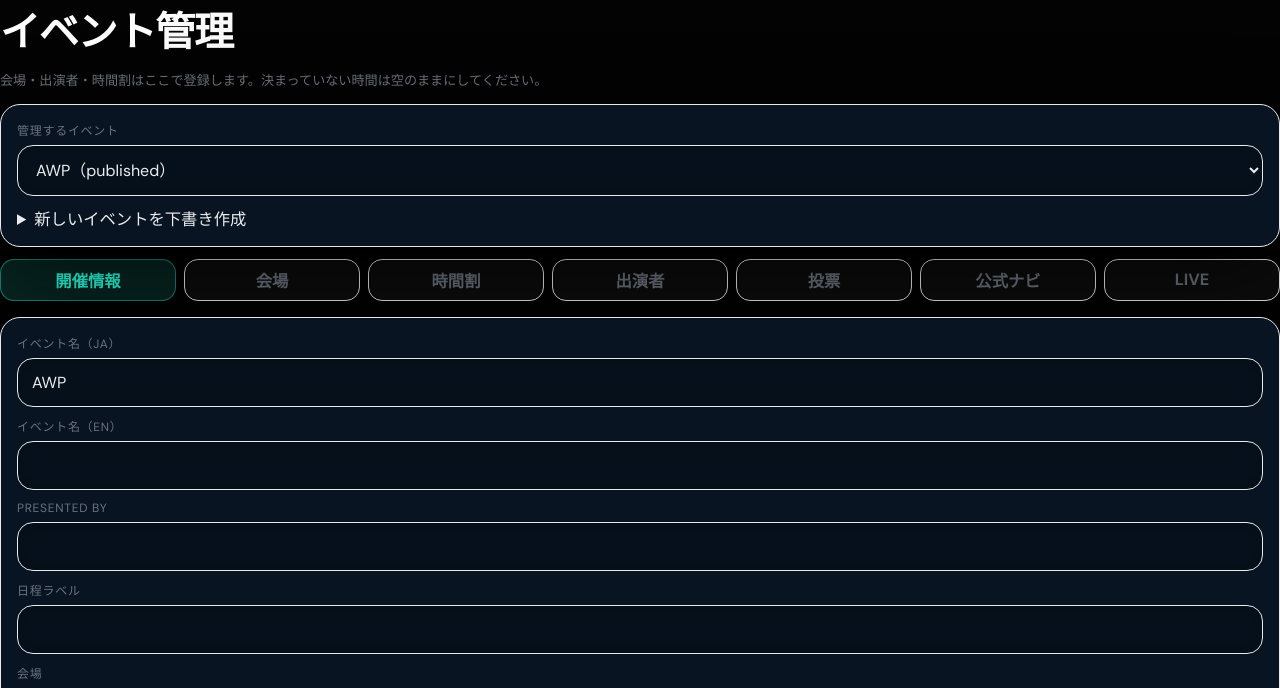
does not report a successful STOP when persistence fails
Click the button "投票" at (824, 280), box [736,259,912,301]
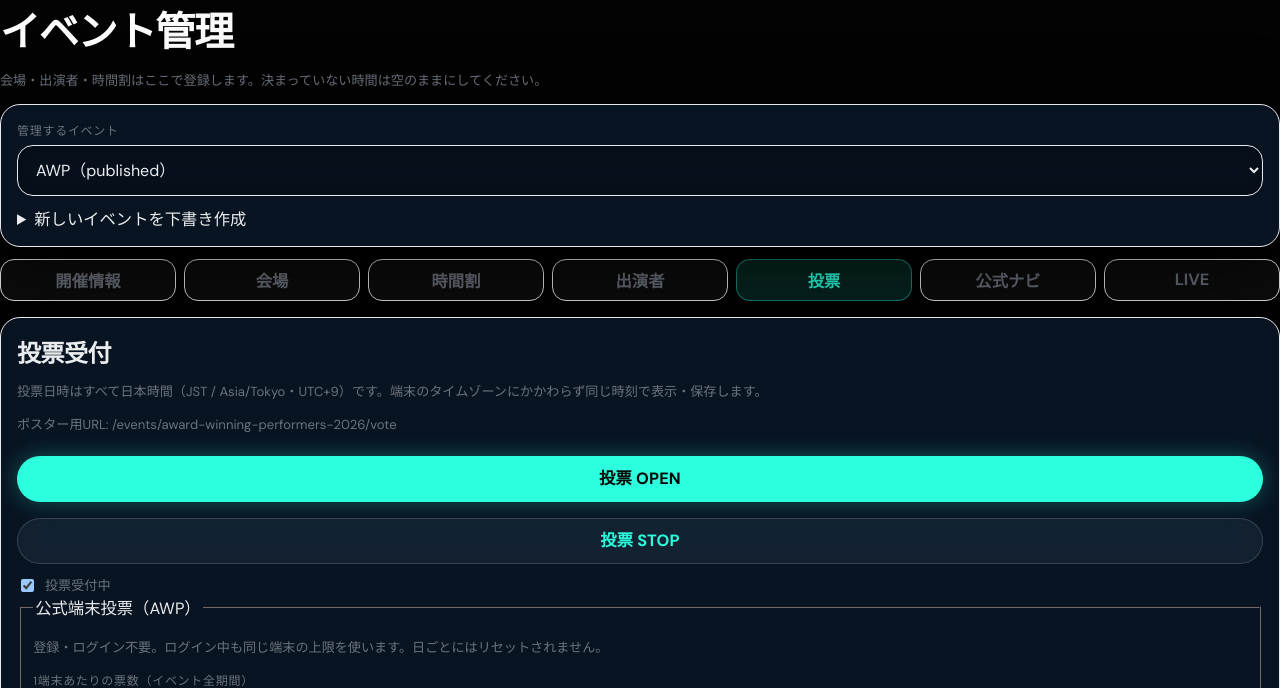
Check: the text "公式端末投票（AWP）" is shown, box [33,595,203,619]
Click the button "投票 STOP" at (640, 541), box [17,518,1263,564]
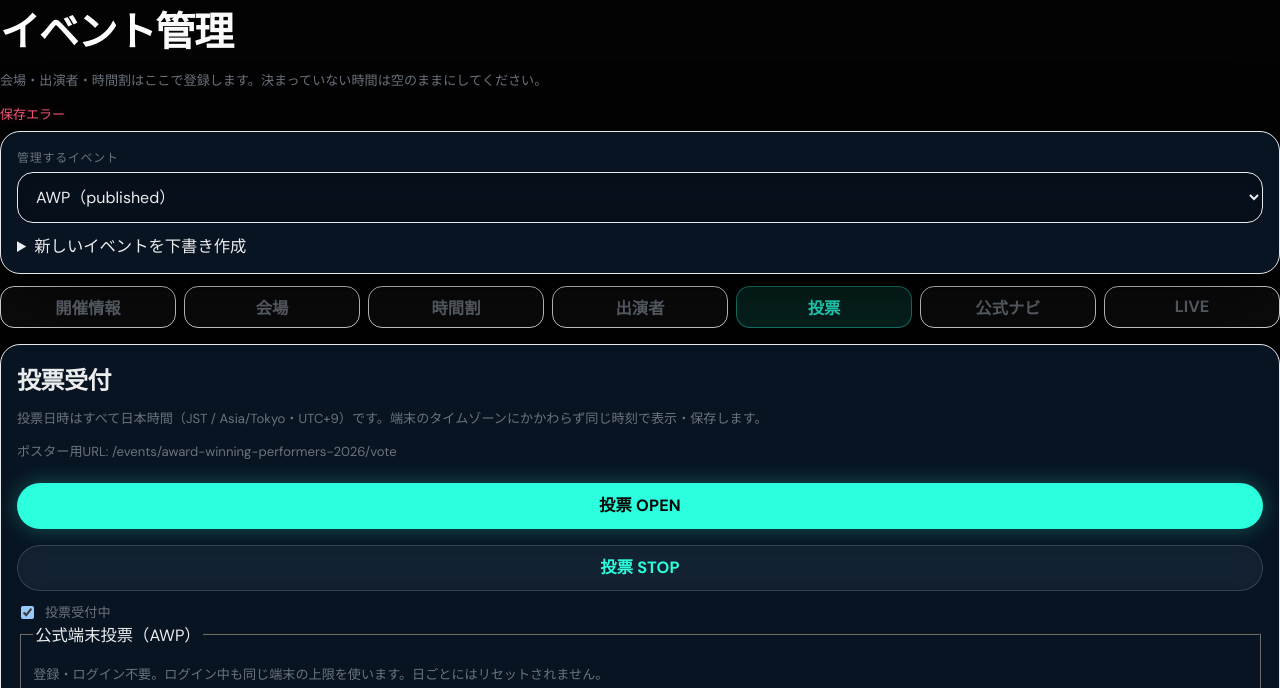
Check: the checkbox labelled "投票受付中" is checked, box [21,606,34,619]
Check: the text "保存エラー" is shown, box [0,106,65,123]
